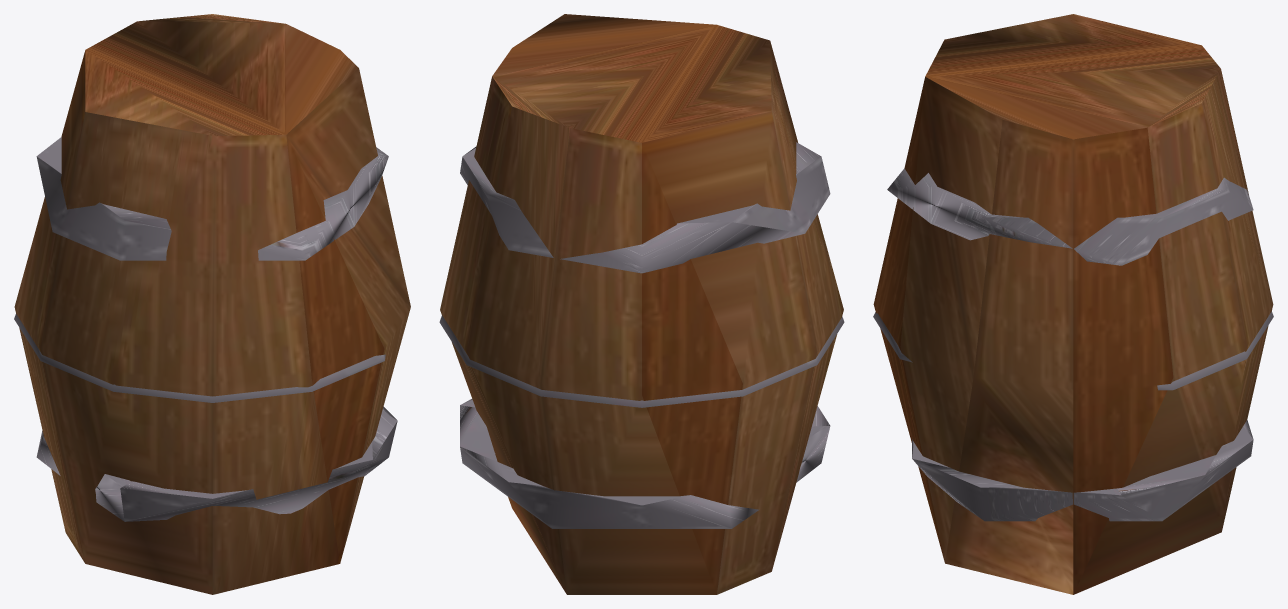
File: Barrel.low.gltf
The picture shows the model from 3 angles, left to right: view 1: azimuth 30°, elevation 25°; view 2: azimuth 150°, elevation 25°; view 3: azimuth 270°, elevation 25°; orthographic projection.
Parts seen in each view (by area): view 1: Barrel; view 2: Barrel; view 3: Barrel.
Part boxes in pixels (x1,y1,x2,y2): Barrel: (14,14,410,594); Barrel: (439,14,844,594); Barrel: (873,14,1273,594).
Size of the model in its own units: 0.697 by 0.898 by 0.698.
Materials: 2 (2 with a texture image).
